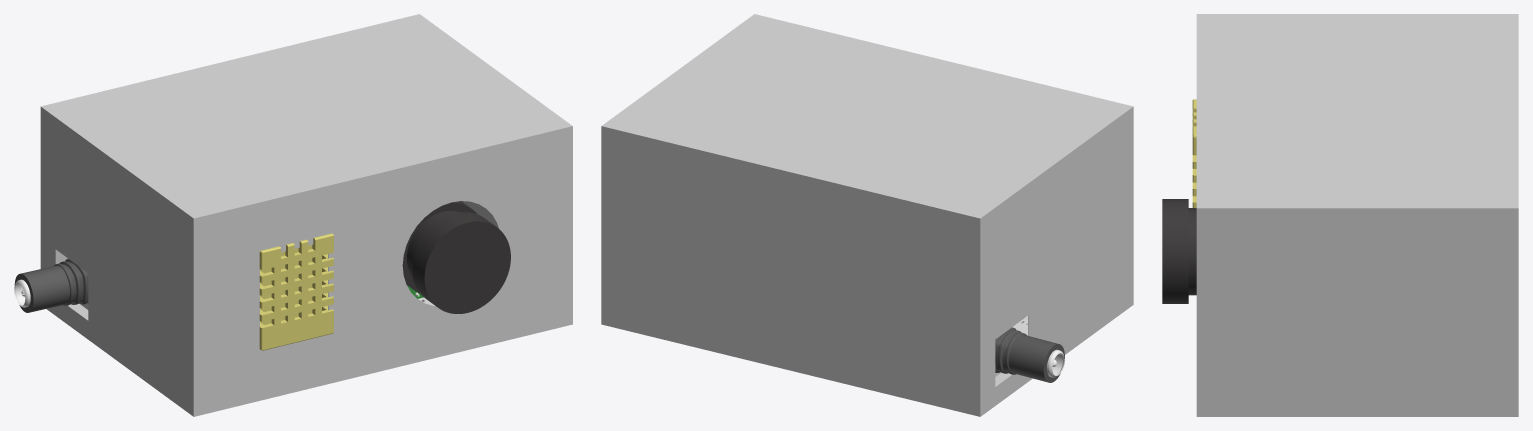
Rendered from AISHOWCASE.glb.
The picture shows the model from 3 angles, left to right: view 1: azimuth 30°, elevation 25°; view 2: azimuth 150°, elevation 25°; view 3: azimuth 270°, elevation 25°; orthographic projection. The views are drawn at different scales.
Visible parts, largest first — view 1: Transparent Box, CameraModule, DHT22, Plug; view 2: Transparent Box, Plug; view 3: Transparent Box, CameraModule, DHT22.
Boxes of the visible parts, box(x1,y1,x2,y2) form: Transparent Box: box(40, 14, 572, 416); CameraModule: box(402, 201, 510, 313); DHT22: box(259, 233, 333, 350); Plug: box(14, 258, 88, 312); Transparent Box: box(601, 14, 1133, 416); Plug: box(995, 327, 1064, 382); Transparent Box: box(1196, 14, 1518, 416); CameraModule: box(1162, 199, 1196, 303); DHT22: box(1192, 99, 1196, 207).
Size of the model in its own units: 226 by 100 by 155.
